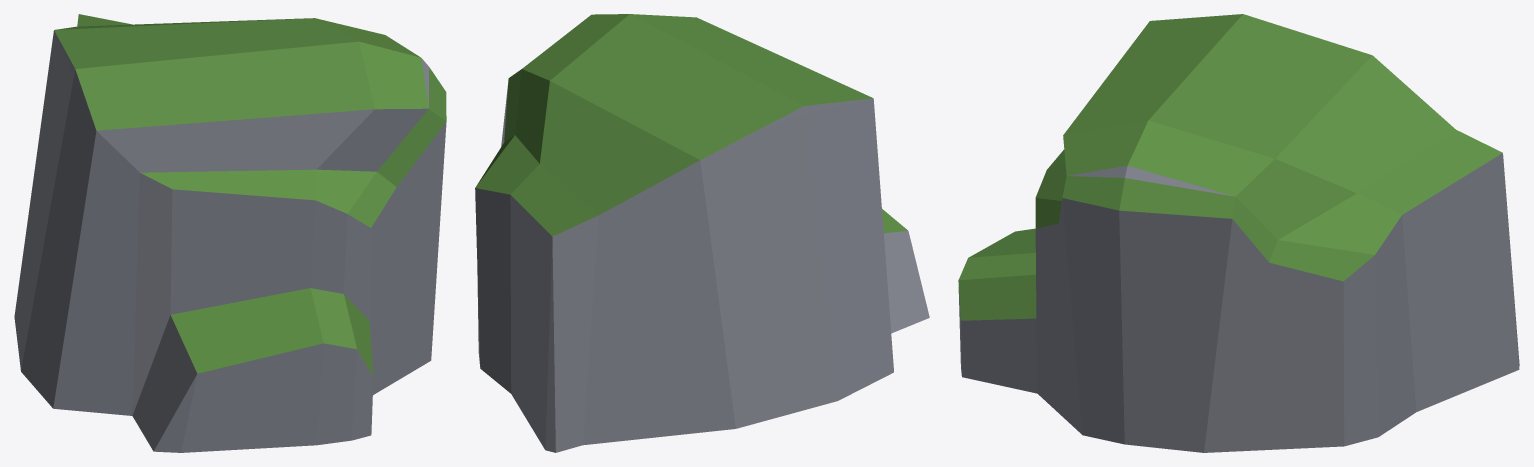
File: Rock_Moss_6.glb
3 renders of one model, left to right at view 1: azimuth 30°, elevation 25°; view 2: azimuth 150°, elevation 25°; view 3: azimuth 270°, elevation 25°, orthographic. The views are drawn at different scales.
Visible parts, largest first — view 1: Rock_Moss_6; view 2: Rock_Moss_6; view 3: Rock_Moss_6.
Boxes of the visible parts, bbox=[...] form: Rock_Moss_6: bbox=[14, 14, 446, 452]; Rock_Moss_6: bbox=[475, 14, 929, 452]; Rock_Moss_6: bbox=[958, 14, 1519, 452].
Bounding box in the file's own units: 0.9002 × 0.6858 × 1.18.
